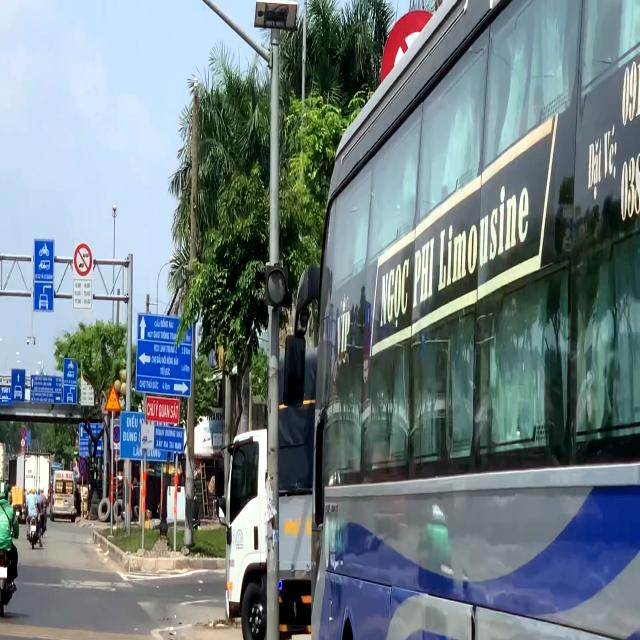P.130: (78, 457, 88, 476), (112, 426, 122, 444), (21, 427, 26, 438)
S.509a: (104, 382, 122, 412)
